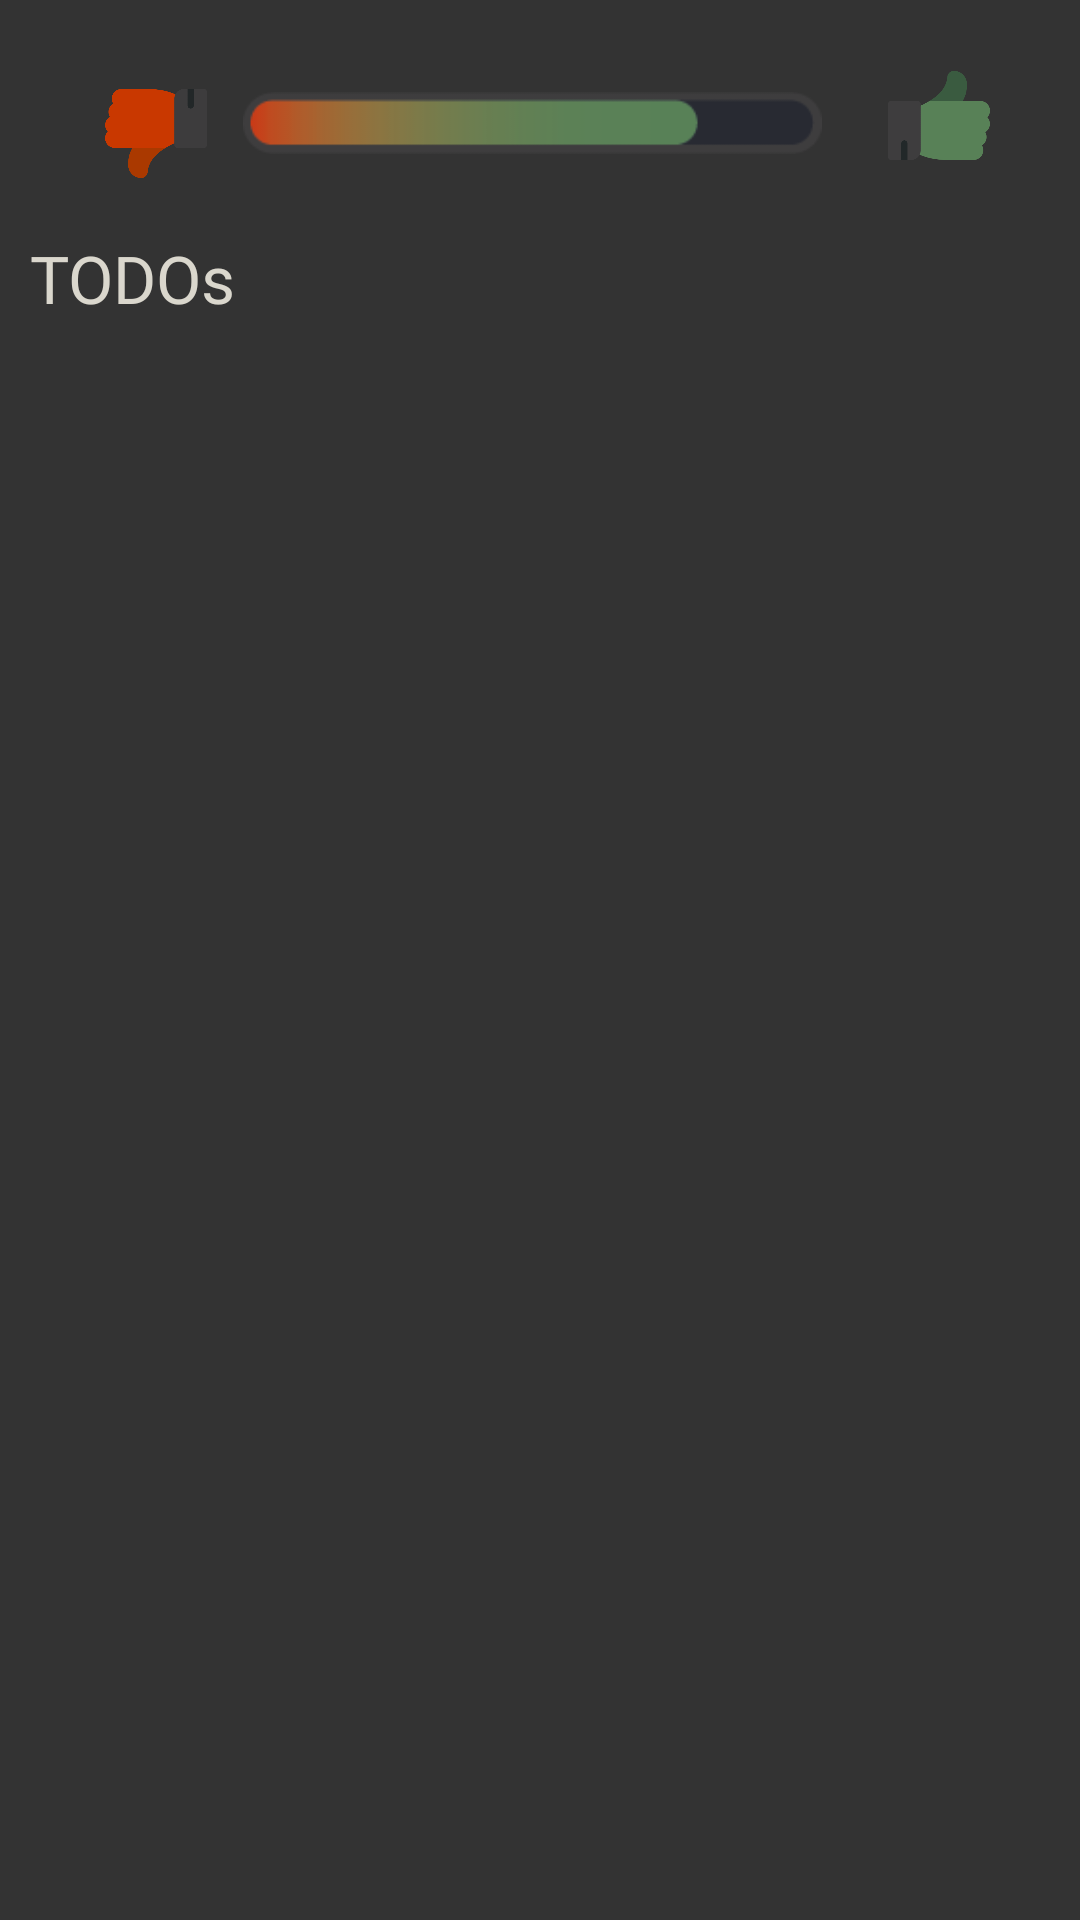

Icons on this 1080*1920 Android screen, each with its box as (x1, y1, x2, y2):
dislike: (105, 89, 175, 178)
like: (920, 71, 990, 160)
